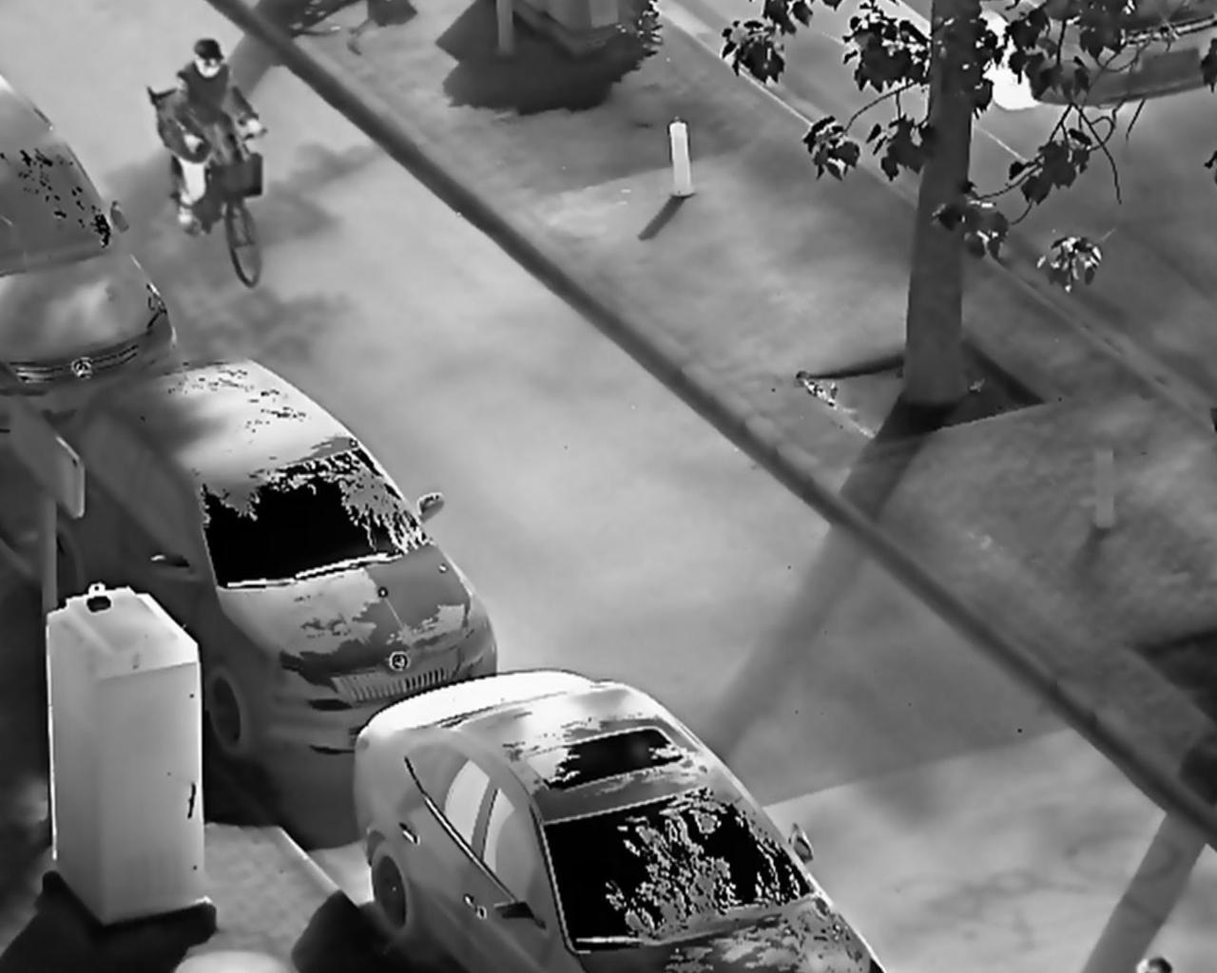person: (168, 36, 271, 238)
